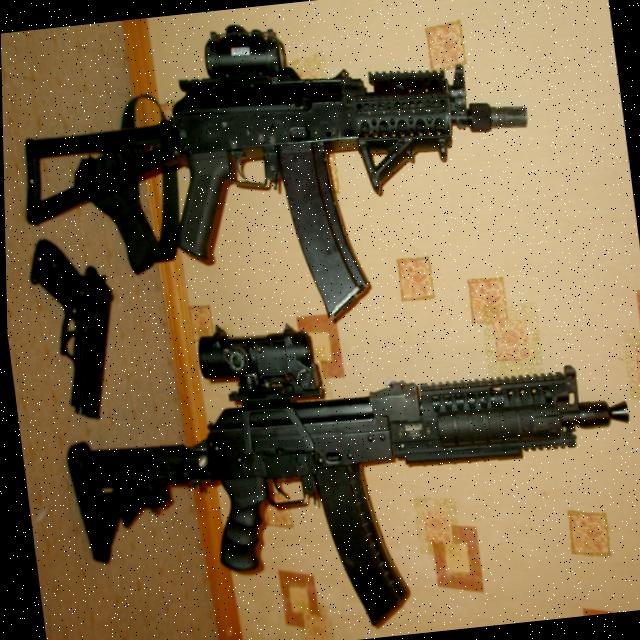firearm: (34, 271, 640, 640), (0, 0, 547, 356)
pistol: (21, 225, 124, 418)
